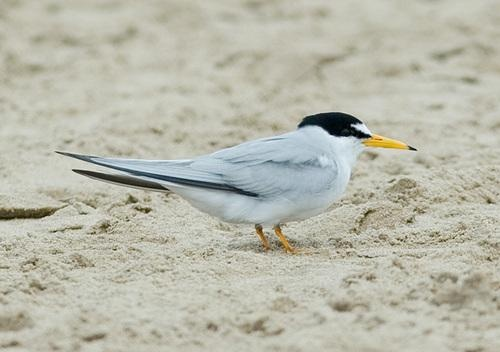bird: (55, 109, 418, 252)
